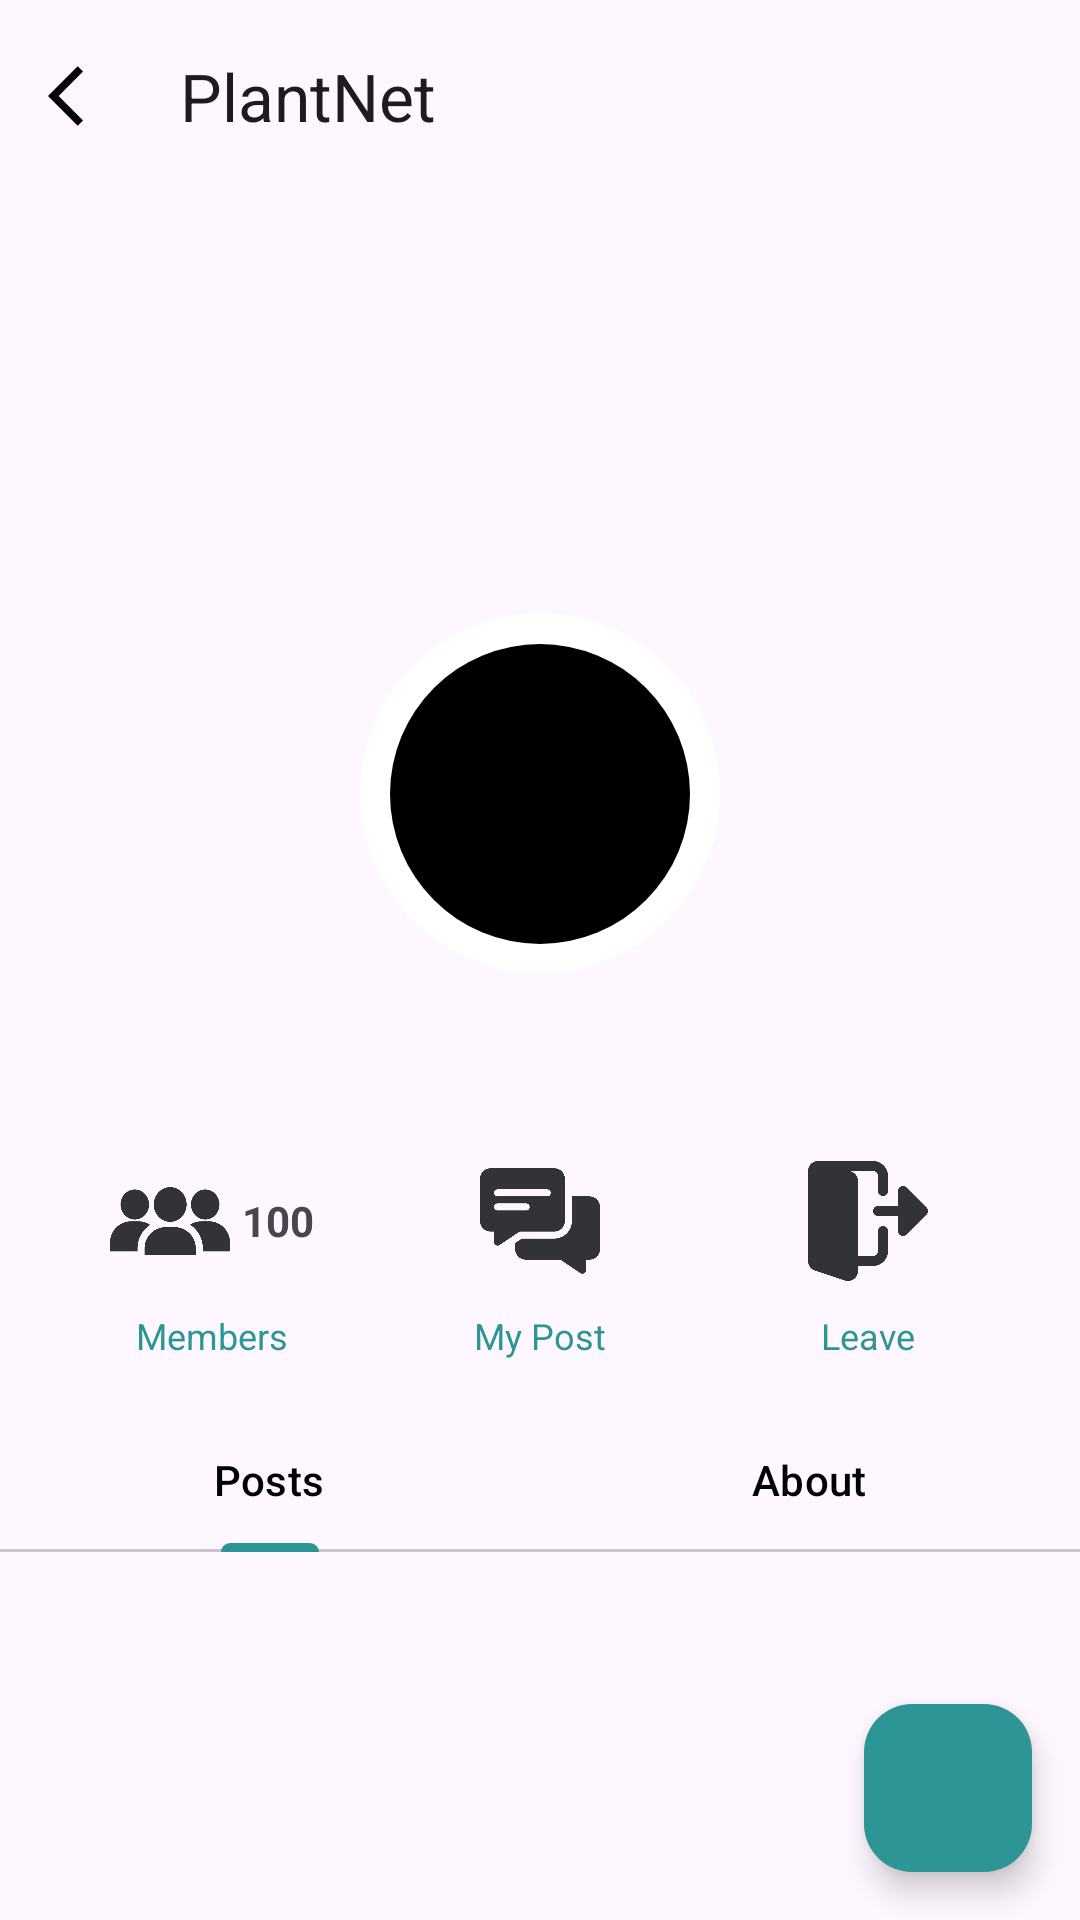

Screen size 1080px×1920px. Icon name, then its box in pixels as (x1, y1, x2, y2):
audience: (110, 1187, 230, 1255)
chat: (480, 1168, 600, 1274)
